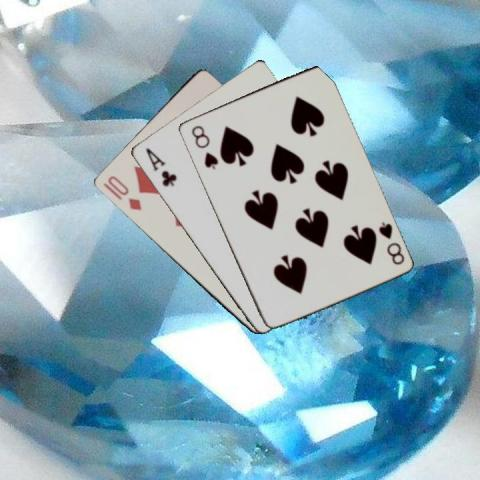10d: (104, 173, 143, 212)
8s: (188, 122, 219, 171), (375, 219, 406, 266)
Ac: (142, 145, 177, 188)
